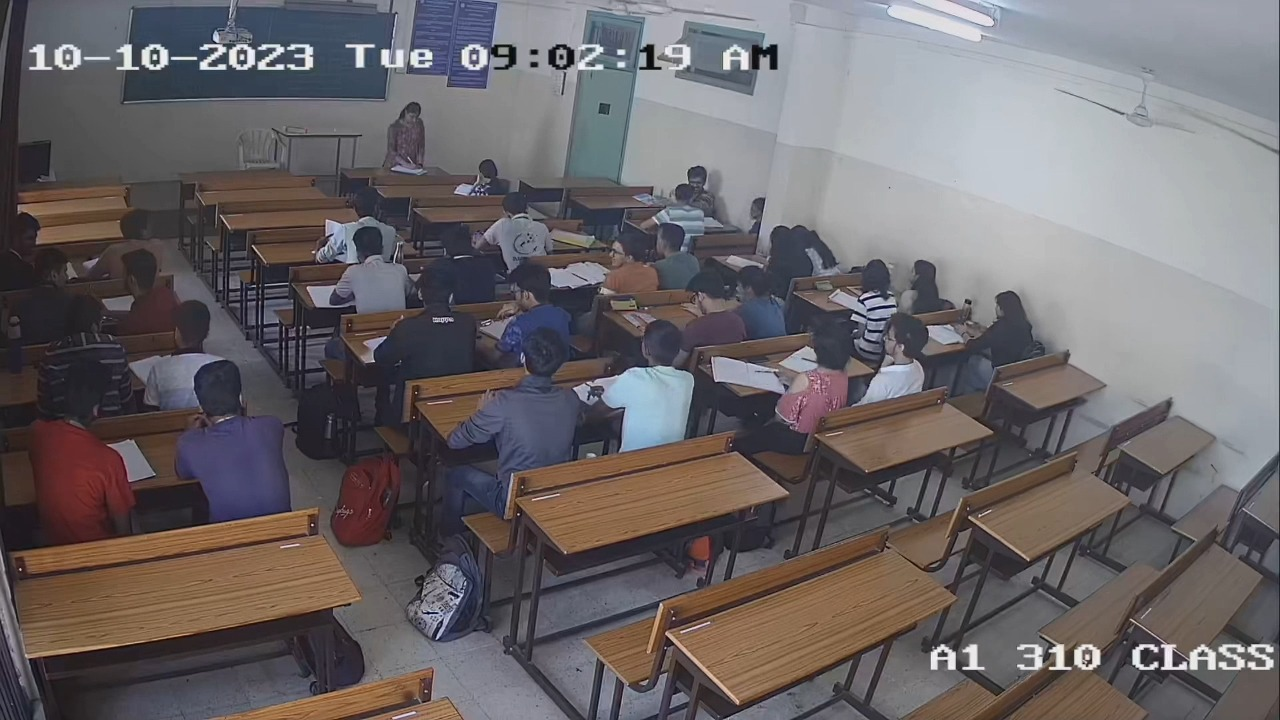cell-phones: (607, 296, 637, 313), (744, 352, 771, 365), (812, 279, 835, 293)
person: (773, 323, 853, 415), (680, 271, 747, 348), (852, 259, 899, 323)
